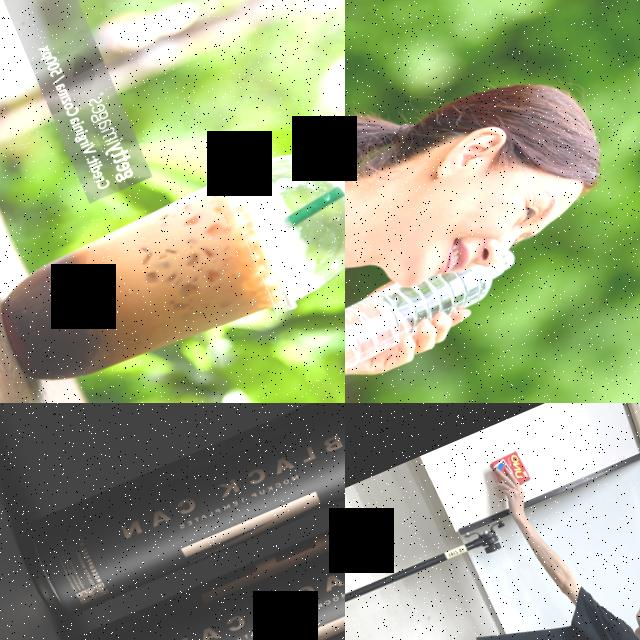bottle: (345, 236, 527, 383)
can: (8, 403, 345, 626), (54, 485, 345, 640)
cup: (0, 117, 345, 403)
